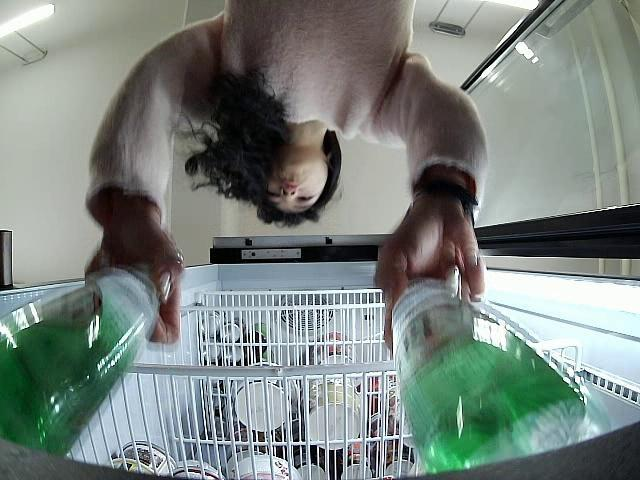18_trevi: (392, 277, 612, 478), (0, 262, 162, 458)
